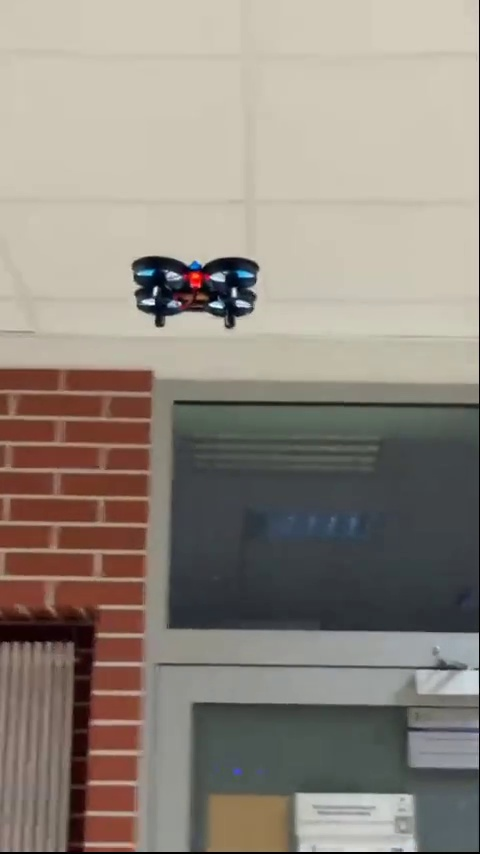drone: (130, 254, 265, 331)
